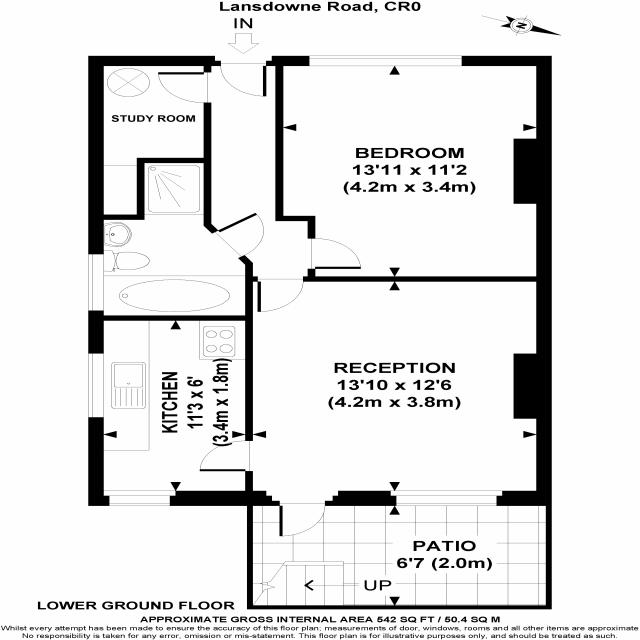DOOR: (211, 211, 266, 260), (156, 70, 212, 104), (278, 500, 328, 538), (219, 60, 268, 98), (256, 276, 306, 313), (307, 237, 363, 270), (198, 440, 254, 473)
ROOM: (199, 276, 555, 539), (274, 55, 553, 282), (87, 315, 254, 506), (88, 55, 212, 220)
WINDOW: (389, 490, 504, 507), (308, 55, 464, 67), (87, 353, 105, 419), (87, 253, 105, 313), (108, 495, 171, 507)
